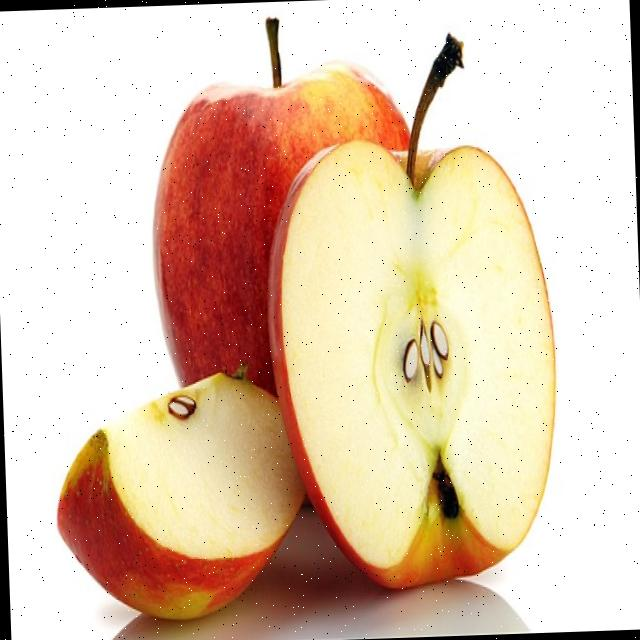Apel: (257, 27, 564, 594), (144, 10, 422, 399), (51, 359, 311, 626)
